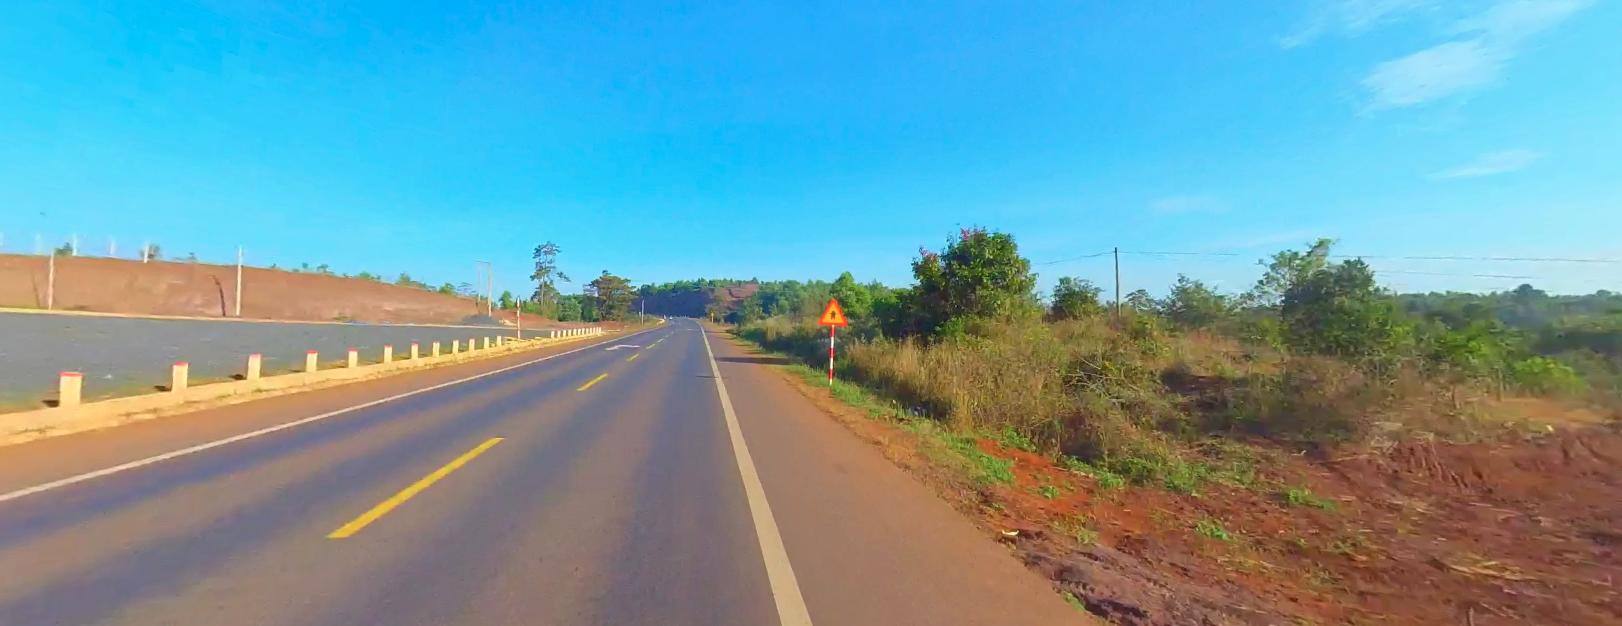Nguy hiem: (818, 297, 848, 324)
